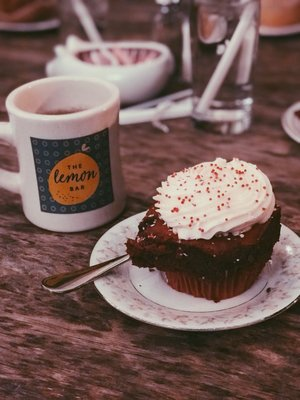pizza: (0, 74, 127, 233)
sandwich: (42, 254, 131, 293)
sushi: (44, 35, 174, 107)
